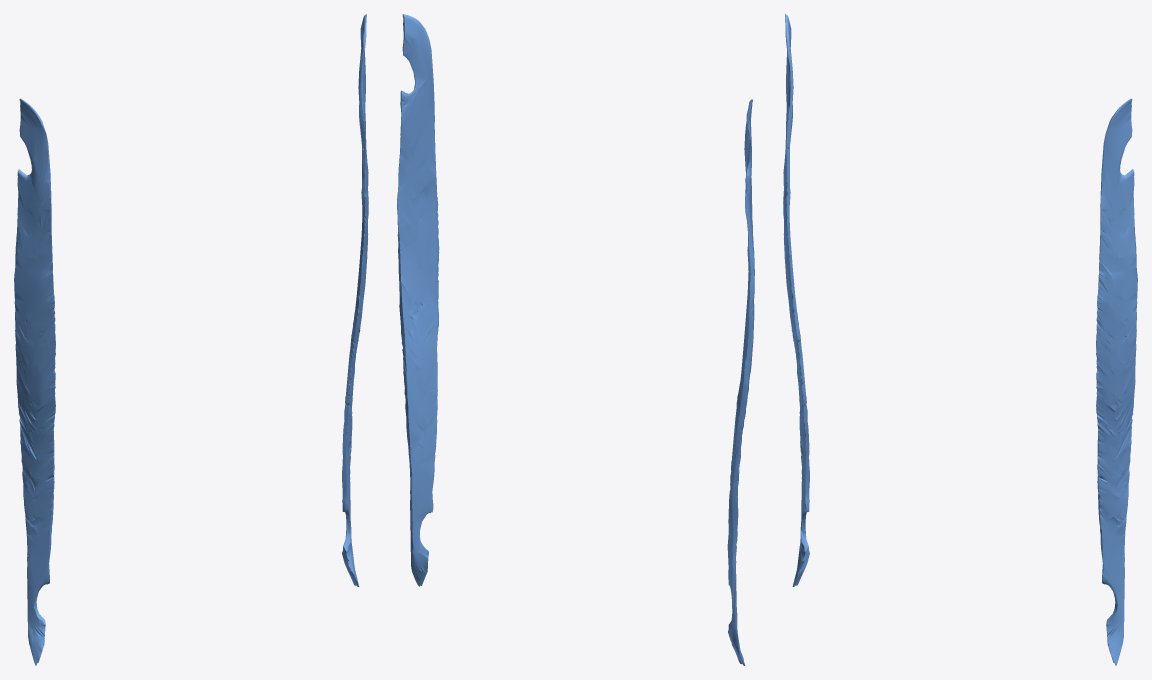
File: supplement-knee-connective.glb
3 renders of one model, left to right at view 1: azimuth 30°, elevation 25°; view 2: azimuth 150°, elevation 25°; view 3: azimuth 330°, elevation 25°, orthographic.
Parts seen in each view (by area): view 1: supplemental:interosseous-membrane-of-leg:isa:FJ1392, supplemental:interosseous-membrane-of-leg:isa:FJ1392M; view 2: supplemental:interosseous-membrane-of-leg:isa:FJ1392M, supplemental:interosseous-membrane-of-leg:isa:FJ1392; view 3: supplemental:interosseous-membrane-of-leg:isa:FJ1392M, supplemental:interosseous-membrane-of-leg:isa:FJ1392.
Part boxes in pixels (<box>): supplemental:interosseous-membrane-of-leg:isa:FJ1392: <box>14,98,55,665</box>; supplemental:interosseous-membrane-of-leg:isa:FJ1392M: <box>342,14,368,586</box>; supplemental:interosseous-membrane-of-leg:isa:FJ1392M: <box>397,14,439,586</box>; supplemental:interosseous-membrane-of-leg:isa:FJ1392: <box>727,99,754,665</box>; supplemental:interosseous-membrane-of-leg:isa:FJ1392M: <box>1096,98,1137,665</box>; supplemental:interosseous-membrane-of-leg:isa:FJ1392: <box>783,14,809,586</box>.
Bounding box in the file's own units: 0.2074 × 0.3185 × 0.024.
